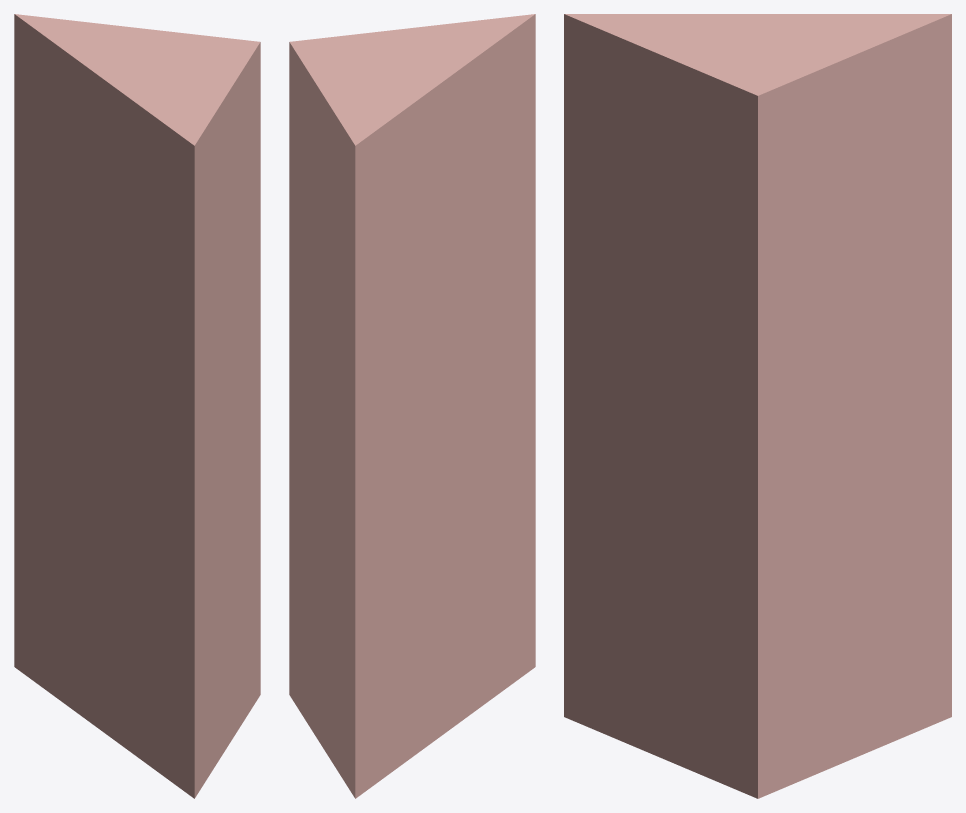
File: Wall_Diagnal_Half.fbx
3 views of the same model, side by side, from view 1: azimuth 30°, elevation 25°; view 2: azimuth 150°, elevation 25°; view 3: azimuth 270°, elevation 25° (orthographic). The views are drawn at different scales.
Parts seen in each view (by area): view 1: Wall_Diagnal_Half; view 2: Wall_Diagnal_Half; view 3: Wall_Diagnal_Half.
Boxes of the visible parts, x1=… form: Wall_Diagnal_Half: x1=14, y1=14, x2=260, y2=798; Wall_Diagnal_Half: x1=289, y1=14, x2=535, y2=798; Wall_Diagnal_Half: x1=564, y1=14, x2=951, y2=798.
Bounding box in the file's own units: 250 × 1000 × 500.
